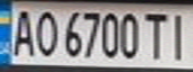0: (118, 9, 142, 60), (100, 9, 121, 60)
6: (57, 7, 84, 58)
7: (78, 8, 103, 59)
A: (6, 7, 39, 57)
I: (163, 9, 193, 61)
O: (30, 7, 60, 57)
T: (142, 9, 172, 61)
